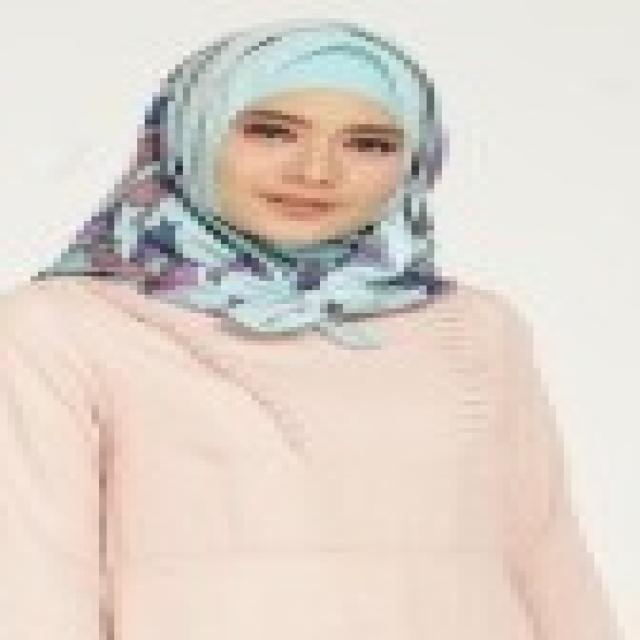head: (145, 17, 469, 271)
